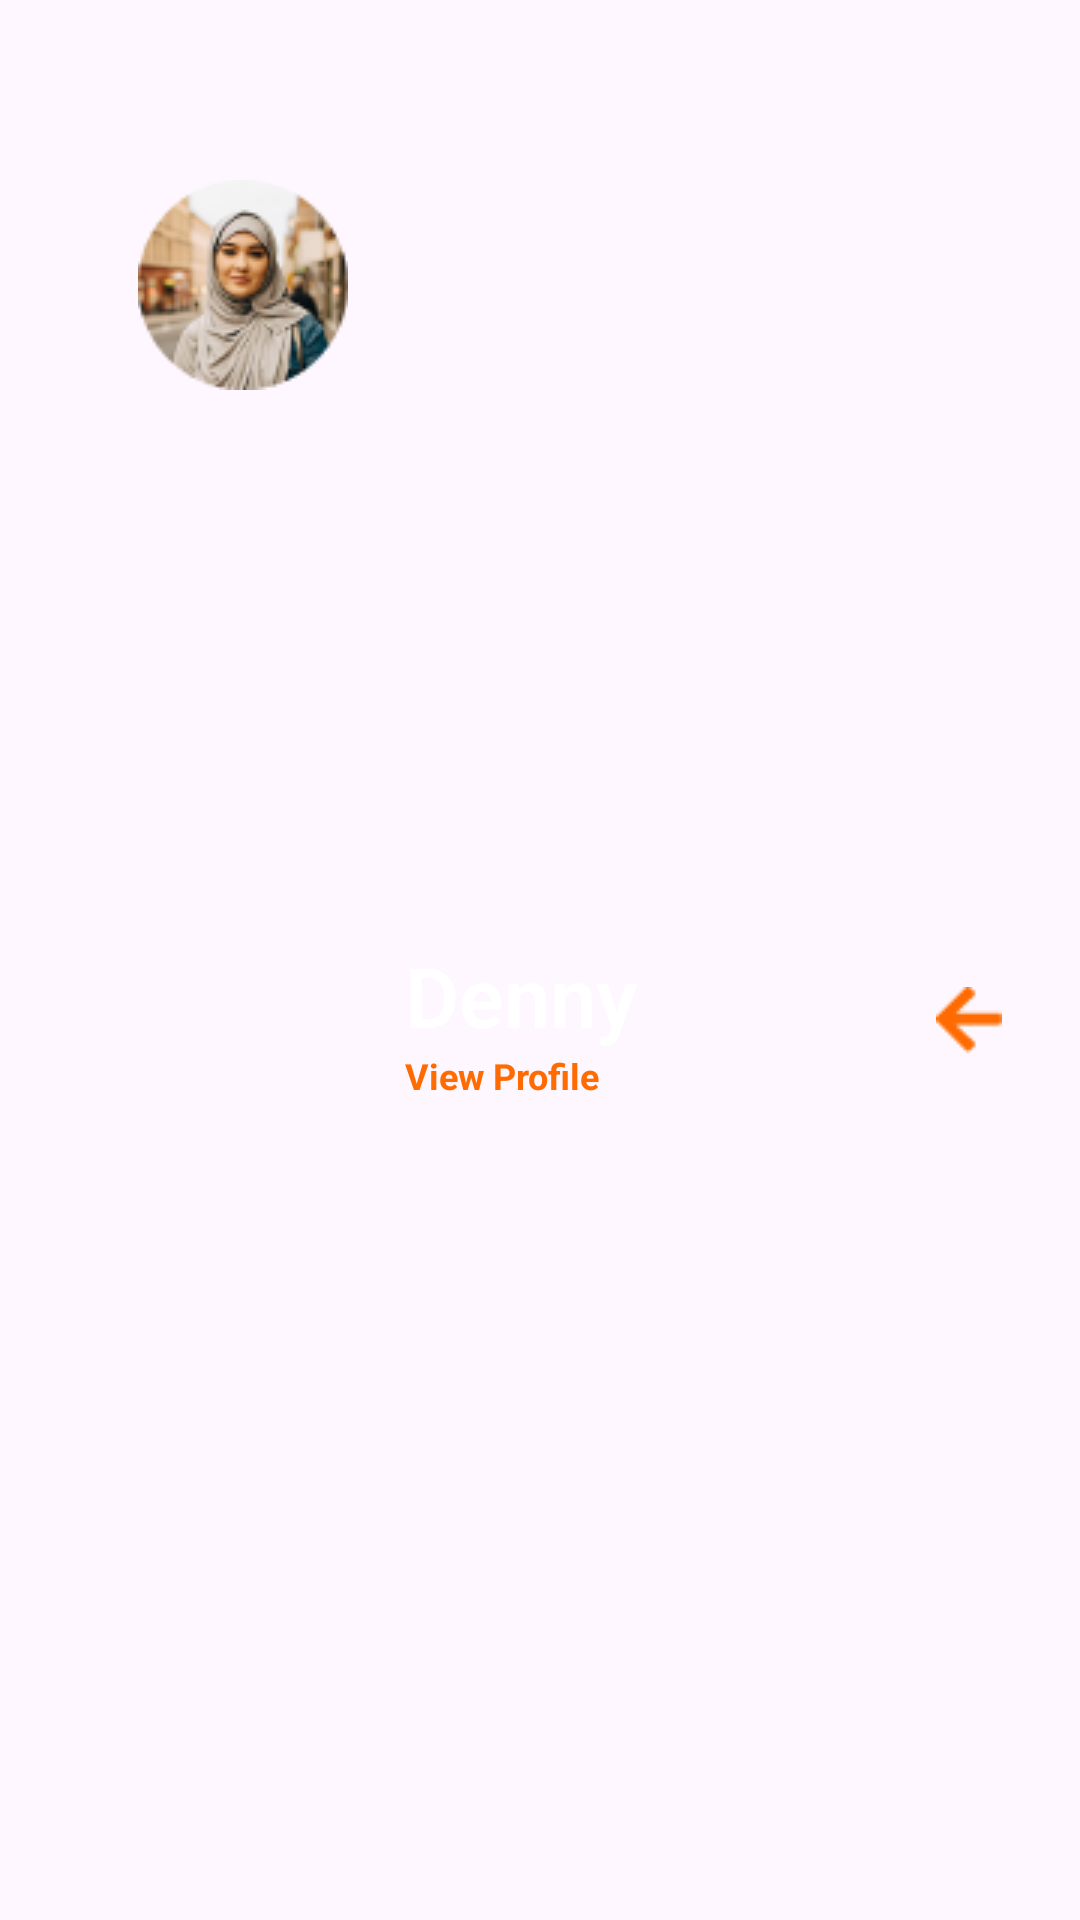

Icon bounding boxes for this 1080×1920 phone screenshot, format (x1, y1, x2, y2):
close drawer: (936, 987, 1002, 1053)
user photo: (138, 195, 348, 390)
